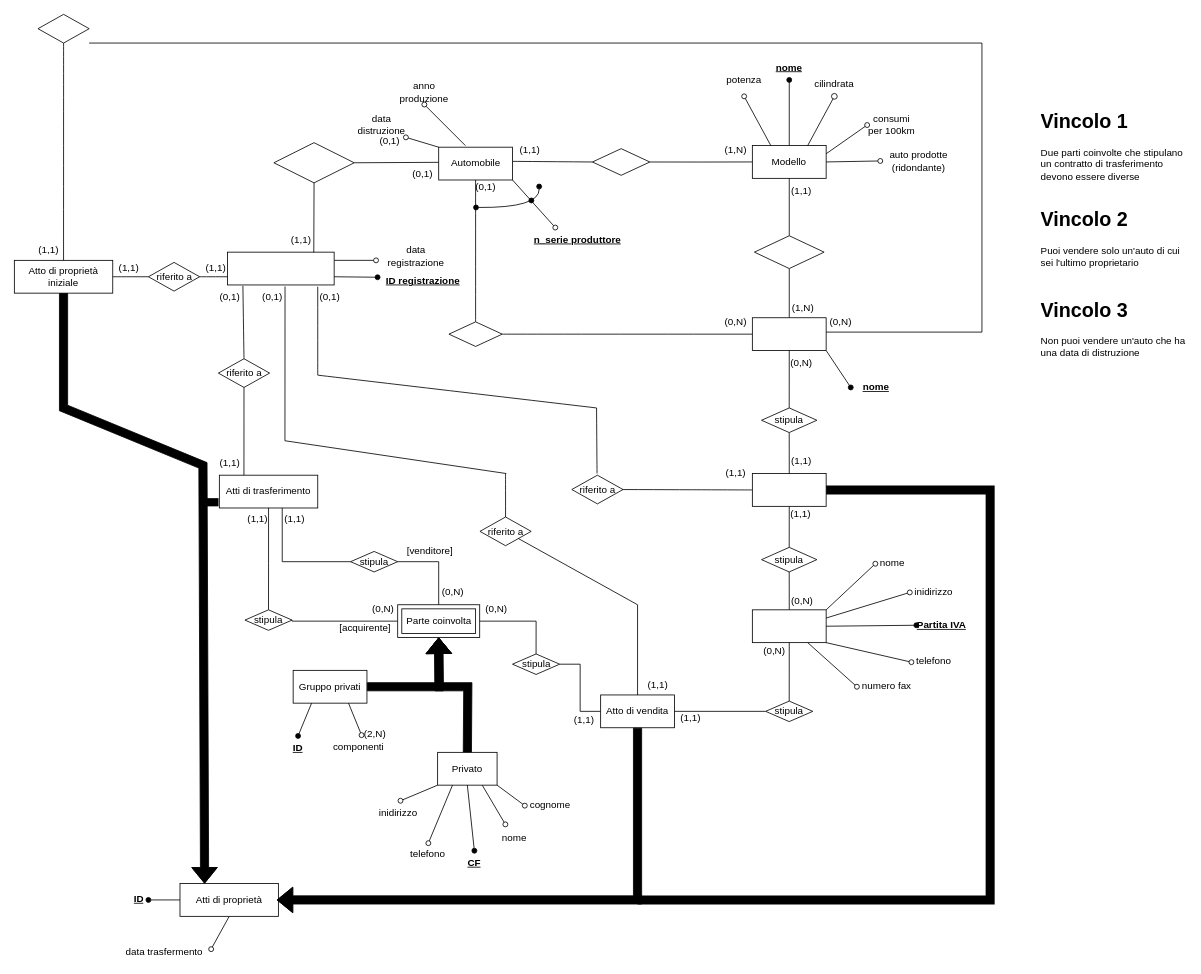
Some shapes in this 1201 by 974 pixel diagram are drawn without their labels. Each missing label, with the centre of its shape:
"Atto di fornitura" belongs at [789,489].
"Automobili Registrate" belongs at [280,268].
"crea" belongs at [475,333].
"firma" belongs at [63,28].
"Produttore" belongs at [789,334].
"progetta" belongs at [789,252].
"Rivenditore" belongs at [789,626].
"viene registrata" belongs at [313,162].
"é di un" belongs at [621,161].
